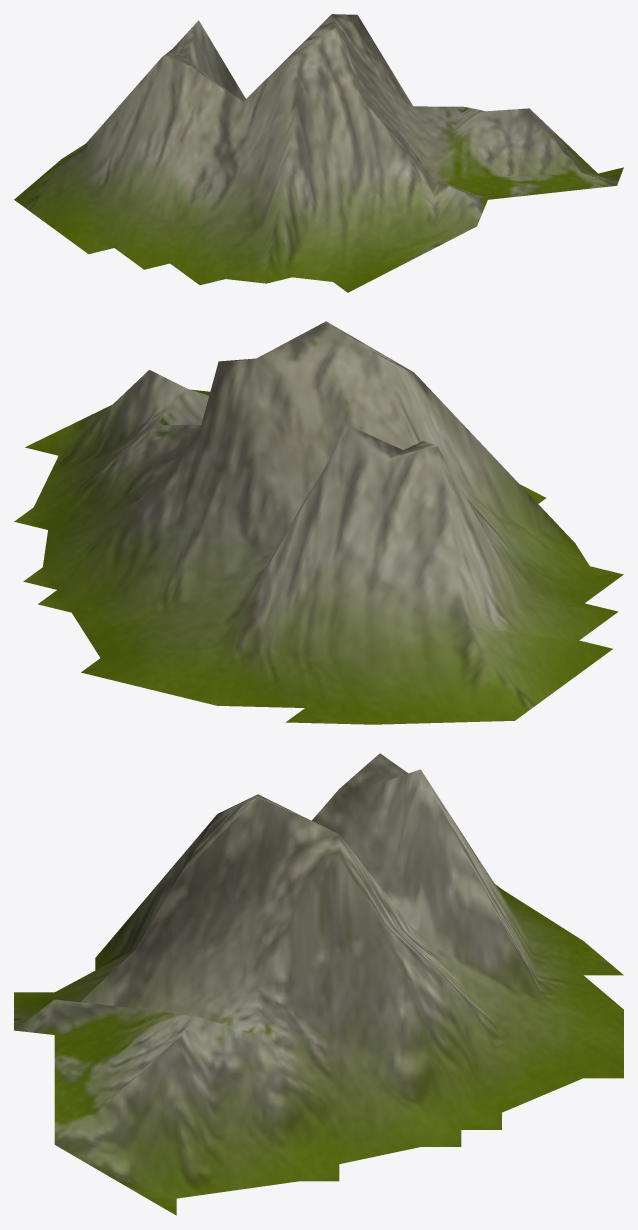
Rendered from Terrain_07.fbx.
3 views of the same model, one above another, from view 1: azimuth 30°, elevation 25°; view 2: azimuth 150°, elevation 25°; view 3: azimuth 270°, elevation 25° (orthographic). The views are drawn at different scales.
Visible parts, largest first — view 1: Terrain_07; view 2: Terrain_07; view 3: Terrain_07.
Boxes of the visible parts, x1,y1,x2,y2 form: Terrain_07: [14, 14, 623, 292]; Terrain_07: [14, 321, 623, 724]; Terrain_07: [14, 753, 623, 1215].
Bounding box in the file's own units: 15.35 × 5.39 × 12.12.
